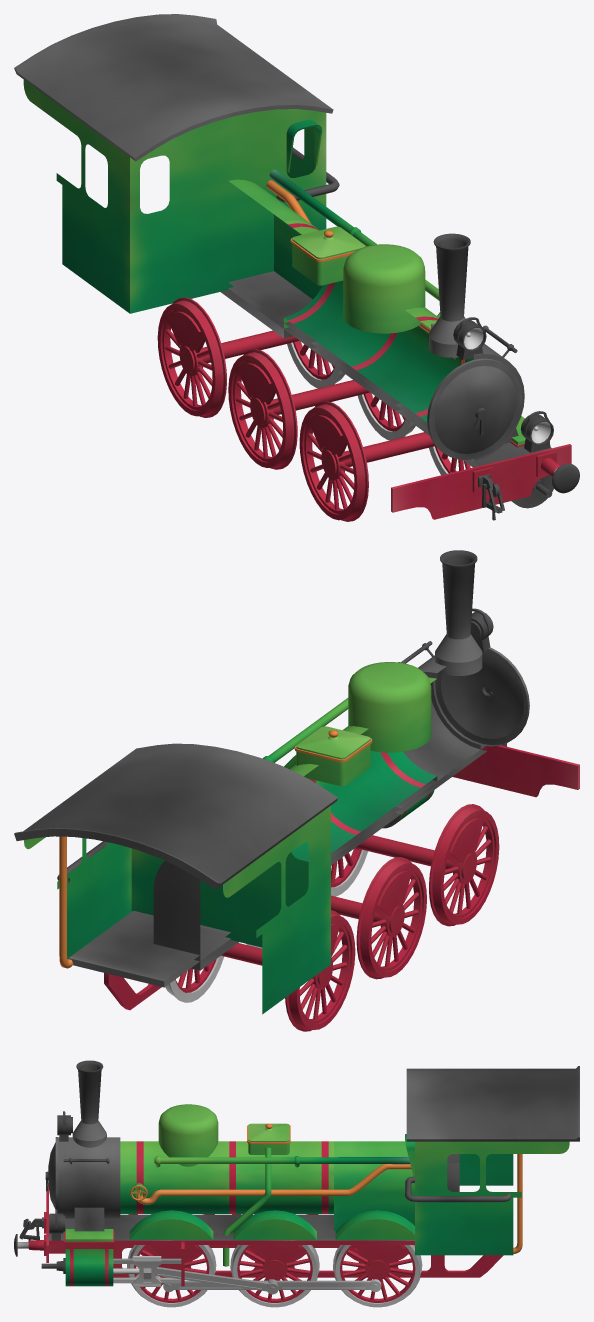
Rendered from Animated_Locomotive.glb.
3 renders of one model, top to bottom at view 1: azimuth 30°, elevation 25°; view 2: azimuth 150°, elevation 25°; view 3: azimuth 270°, elevation 25°, orthographic. The views are drawn at different scales.
Visible parts, largest first — view 1: Plane.024, Circle.009, Circle.010, Circle.008; view 2: Plane.024, Circle.008, Circle.009, Circle.010; view 3: Plane.024, Circle.010, Circle.009, Circle.008, Cylinder.030, Cube.006, Cube.007.
Part boxes in pixels (x1=…): Plane.024: x1=14, y1=14, x2=579, y2=520; Circle.009: x1=228, y1=349, x2=415, y2=469; Circle.010: x1=157, y1=297, x2=344, y2=417; Circle.008: x1=299, y1=401, x2=470, y2=521; Plane.024: x1=14, y1=550, x2=579, y2=1014; Circle.008: x1=331, y1=804, x2=499, y2=926; Circle.009: x1=246, y1=857, x2=426, y2=979; Circle.010: x1=165, y1=910, x2=355, y2=1031; Plane.024: x1=14, y1=1060, x2=579, y2=1286; Circle.010: x1=333, y1=1245, x2=422, y2=1307; Circle.009: x1=230, y1=1214, x2=319, y2=1307; Circle.008: x1=127, y1=1214, x2=216, y2=1307; Cylinder.030: x1=163, y1=1279, x2=381, y2=1291; Cube.006: x1=155, y1=1267, x2=278, y2=1294; Cube.007: x1=113, y1=1256, x2=161, y2=1286.
Bounding box in the file's own units: 1.53 × 2.11 × 4.91.
1 material, 1 textured.
